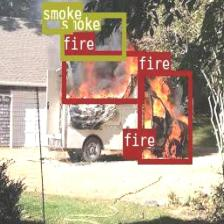fire: (137, 70, 192, 163), (61, 50, 144, 103), (122, 146, 140, 158)
smoke: (60, 11, 125, 60), (42, 1, 72, 32)
